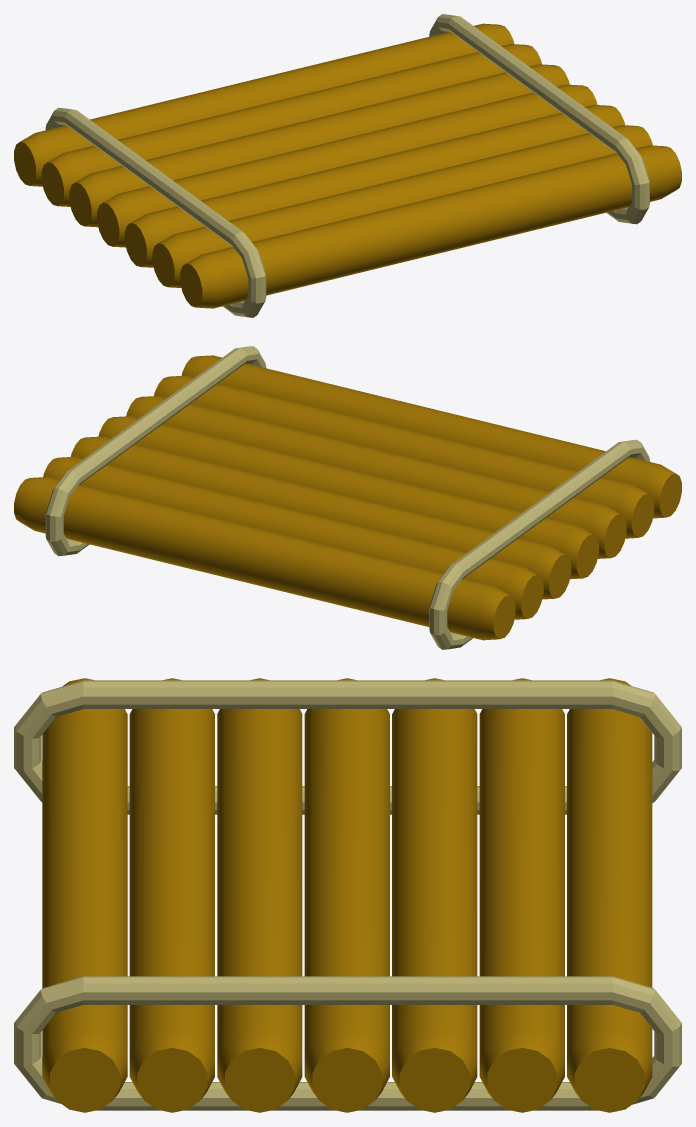
File: raft.fbx
The picture shows the model from 3 angles, top to bottom: view 1: azimuth 30°, elevation 25°; view 2: azimuth 150°, elevation 25°; view 3: azimuth 270°, elevation 25°; orthographic projection. The views are drawn at different scales.
Parts seen in each view (by area): view 1: pasted__pTorus1; view 2: pasted__pTorus1; view 3: pasted__pTorus1.
Boxes of the visible parts, x1,y1,x2,y2 form: pasted__pTorus1: [14, 14, 681, 317]; pasted__pTorus1: [14, 346, 681, 649]; pasted__pTorus1: [14, 678, 681, 1112].
Size of the model in its own units: 30 by 5 by 22.91.
